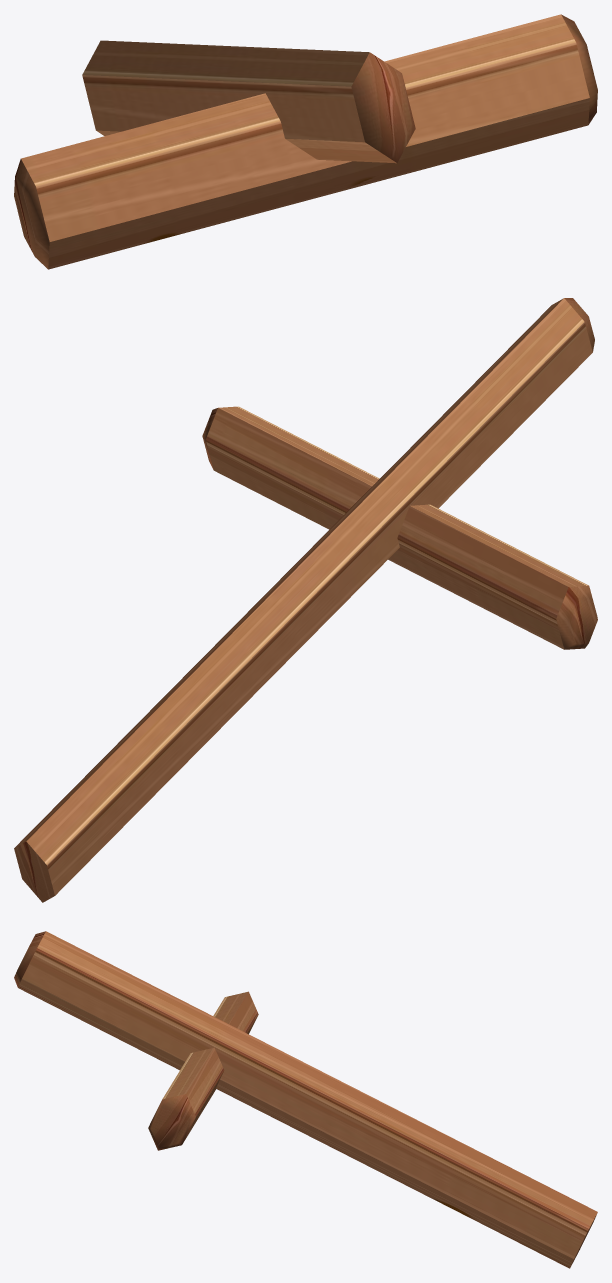
The model's file is crossFromShip.fbx.
The picture shows the model from 3 angles, top to bottom: view 1: azimuth 30°, elevation 25°; view 2: azimuth 150°, elevation 25°; view 3: azimuth 270°, elevation 25°; orthographic projection. The views are drawn at different scales.
Visible parts, largest first — view 1: Cylinder.022; view 2: Cylinder.022; view 3: Cylinder.022.
Part boxes in pixels (bbox=[...]): Cylinder.022: bbox=[14, 14, 597, 269]; Cylinder.022: bbox=[14, 298, 597, 902]; Cylinder.022: bbox=[14, 931, 597, 1268].
Bounding box in the file's own units: 146 × 128 × 242.
